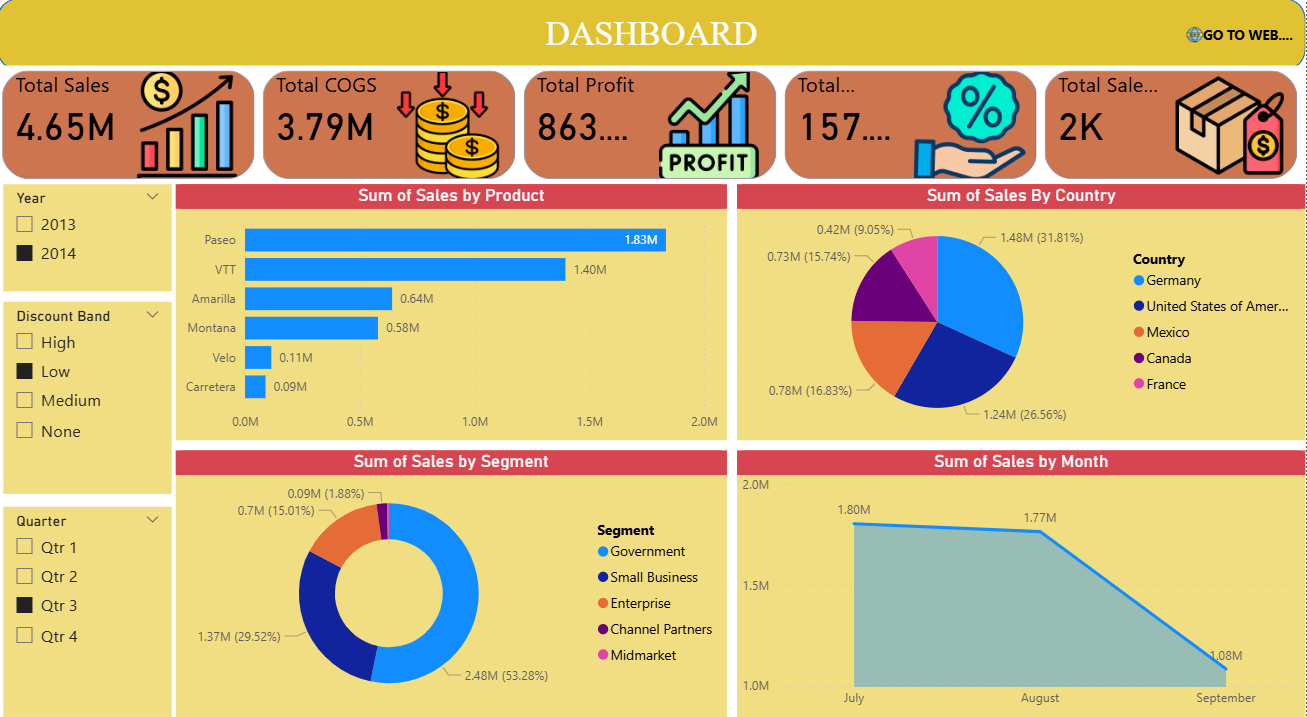

The dashboard page shown, as its layout file describes it:
{"tool":"powerbi","page":{"name":"Q9. Dashboard","canvas":[1280,720],"ordinal":8},"visuals":[{"type":"shape","box":[0,4.9,1280.3,70.9],"z":0},{"type":"cardVisual","fields":{"Data":["Sum(financials. Sales)","Sum(financials.COGS)","Sum(financials.Profit)","Sum(financials.Discounts)","Sum(financials.Sale Price)"]},"box":[0,70.9,1280.3,116.2],"z":1000},{"type":"pieChart","title":"Sum of  Sales By Country","fields":{"Y":["Sum(financials. Sales)"],"Category":["financials.Country"]},"box":[723.9,187.1,556.4,250.7],"z":2000},{"type":"barChart","fields":{"Y":["Sum(financials. Sales)"],"Category":["financials.Product"]},"box":[174.9,187.1,539.3,250.7],"z":3000},{"type":"areaChart","fields":{"Category":["financials.Date.Variation.Date Hierarchy.Month"],"Y":["Sum(financials. Sales)"]},"box":[723.9,447.6,556.4,260.5],"z":4000},{"type":"donutChart","fields":{"Y":["Sum(financials. Sales)"],"Category":["financials.Segment"]},"box":[174.9,447.6,539.3,260.5],"z":5000},{"type":"slicer","fields":{"Values":["financials.Date.Variation.Date Hierarchy.Year"]},"box":[6.1,187.1,165.1,105.2],"z":6000},{"type":"slicer","fields":{"Values":["financials.Discount Band"]},"box":[6.1,302,165.1,188.3],"z":7000},{"type":"slicer","fields":{"Values":["financials.Date.Variation.Date Hierarchy.Quarter"]},"box":[6.1,502.6,165.1,205.4],"z":8000},{"type":"actionButton","box":[1158,20.8,113.7,40.4],"z":9000}]}

Visuals, with their boxes in screenshot pixels (x1, y1, x2, y2), scaled from the page's 1280x720 canvas onto the 1307x717 screenshot:
shape: [0, 5, 1306, 75]
cardVisual - Sum(financials. Sales) x Sum(financials.COGS): [0, 71, 1306, 186]
"Sum of  Sales By Country" pieChart: [739, 186, 1306, 436]
barChart - Sum(financials. Sales) x financials.Product: [179, 186, 729, 436]
areaChart - financials.Date.Variation.Date Hierarchy.Month x Sum(financials. Sales): [739, 446, 1306, 705]
donutChart - Sum(financials. Sales) x financials.Segment: [179, 446, 729, 705]
slicer - financials.Date.Variation.Date Hierarchy.Year: [6, 186, 175, 291]
slicer - financials.Discount Band: [6, 301, 175, 488]
slicer - financials.Date.Variation.Date Hierarchy.Quarter: [6, 501, 175, 705]
actionButton: [1182, 21, 1299, 61]
